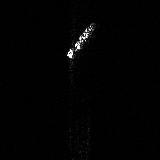ship: (62, 18, 99, 62)
